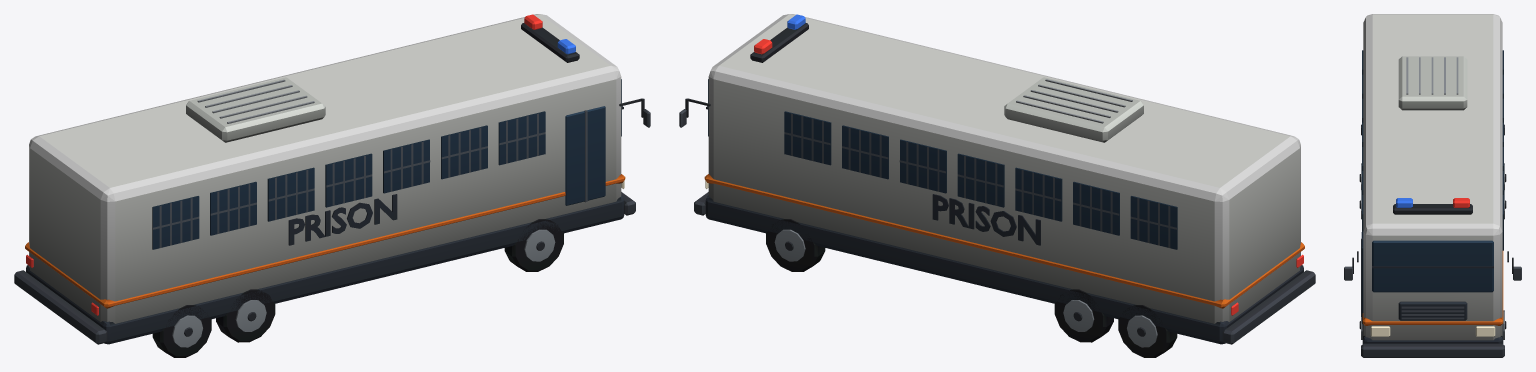
Rendered from bus_prison.glb.
The picture shows the model from 3 angles, left to right: view 1: azimuth 30°, elevation 25°; view 2: azimuth 150°, elevation 25°; view 3: azimuth 270°, elevation 25°; orthographic projection. The views are drawn at different scales.
Parts seen in each view (by area): view 1: Body, Lights_glow; view 2: Body, Lights_glow; view 3: Body, Lights_glow.
Part boxes in pixels (<box>): Body: <box>14,14,650,357</box>; Lights_glow: <box>26,14,624,315</box>; Body: <box>679,14,1315,357</box>; Lights_glow: <box>705,14,1303,315</box>; Body: <box>1344,14,1521,357</box>; Lights_glow: <box>1370,198,1495,336</box>.
Bounding box in the file's own units: 9.43 × 3.33 × 3.12.
